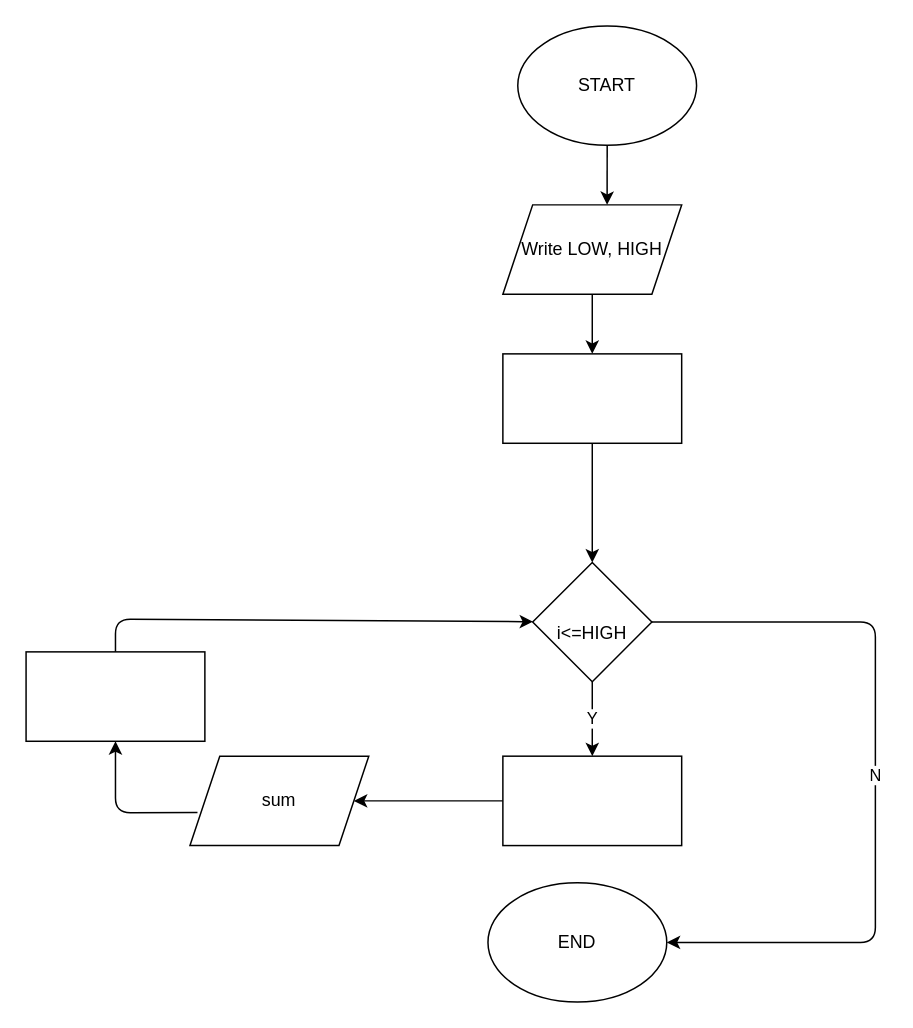
This 913x1028 diagram has some shape labels left out. Each missing label, with the centre of its shape:
"i++" goes at pixel 115 695.
"sum= sum+i" goes at pixel 591 800.
"sum=0 i=LOW" goes at pixel 591 397.
